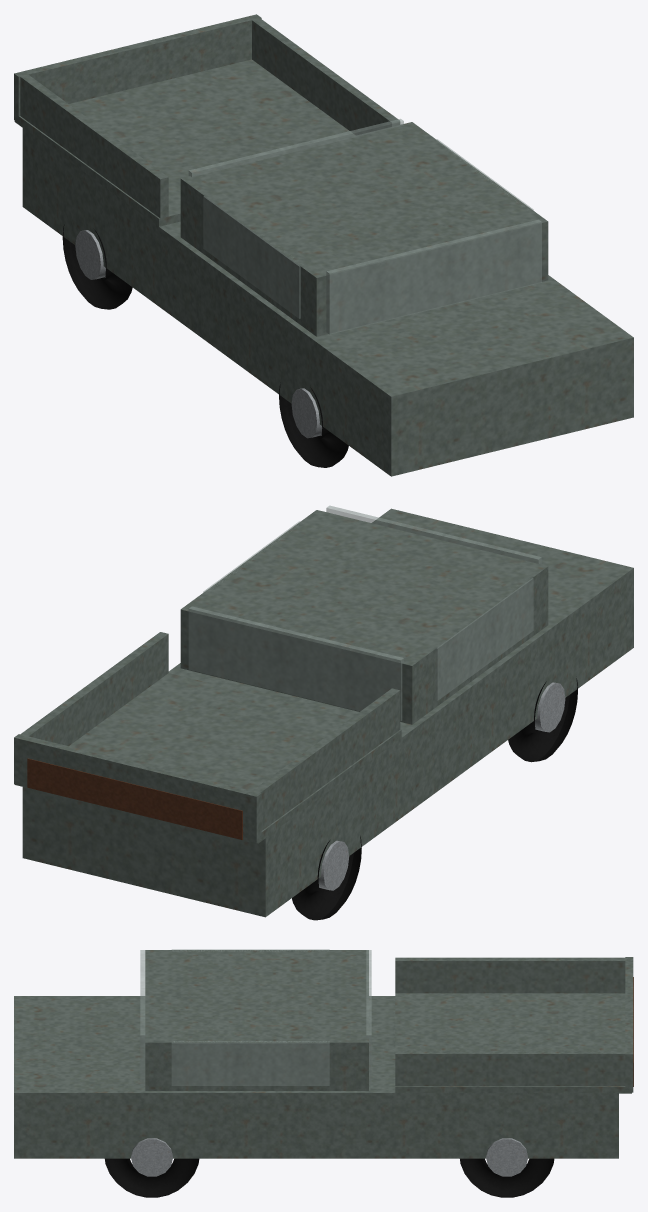
The model's file is vehicle.pickup.glb.
3 views of the same model, one above another, from view 1: azimuth 30°, elevation 25°; view 2: azimuth 150°, elevation 25°; view 3: azimuth 270°, elevation 25° (orthographic). The views are drawn at different scales.
Parts seen in each view (by area): view 1: vehicle.pickup; view 2: vehicle.pickup; view 3: vehicle.pickup.
Part boxes in pixels (<box>): vehicle.pickup: <box>14,14,633,476</box>; vehicle.pickup: <box>14,505,633,920</box>; vehicle.pickup: <box>14,949,633,1197</box>.
Bounding box in the file's own units: 1.81 × 1.33 × 4.71.
Materials: 5 (5 with a texture image).
